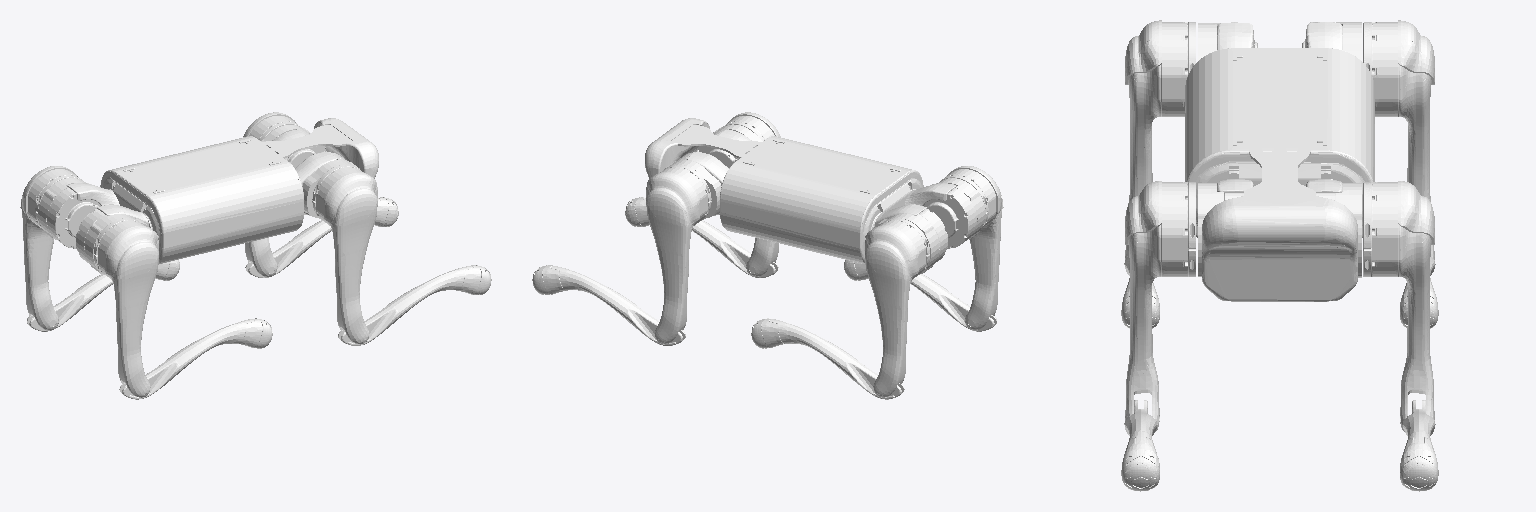
--- Facts derived from the render (not from the file) ---
Views: 3 orthographic renders of the robot side by side, from view 1: azimuth 30°, elevation 25°; view 2: azimuth 150°, elevation 25°; view 3: azimuth 270°, elevation 25°.
Model go2_description with 42 links and 41 joints (12 revolute, 29 fixed), rooted at base, posed all joints at 0 but 4 set to mid-range because 0 is outside their limits (FL_calf_joint = -1.78, FR_calf_joint = -1.78, RL_calf_joint = -1.78, RR_calf_joint = -1.78).
Visible links, largest first — view 1: base, FR_thigh, RR_thigh, RL_thigh, RL_hip, RR_calf, FR_calf, FL_calf, RR_hip, FL_thigh, RL_calf, FR_hip (+1 smaller); view 2: base, FL_thigh, RL_thigh, RR_thigh, RR_hip, RL_calf, FL_calf, FR_calf, RL_hip, FR_thigh, RR_calf, FL_hip (+1 smaller); view 3: base, FL_thigh, FR_thigh, RL_thigh, RR_thigh, RL_hip, RR_hip, FL_calf, FR_calf, FL_hip, FR_hip, FR_foot (+1 smaller).
Boxes of the visible links, x1=… form: base: x1=100, y1=118, x2=378, y2=263; FR_thigh: x1=312, y1=165, x2=377, y2=344; RR_thigh: x1=94, y1=218, x2=158, y2=397; RL_thigh: x1=20, y1=166, x2=82, y2=330; RL_hip: x1=38, y1=178, x2=119, y2=248; RR_calf: x1=119, y1=319, x2=272, y2=399; FR_calf: x1=338, y1=265, x2=489, y2=345; FL_calf: x1=245, y1=197, x2=398, y2=277; RR_hip: x1=76, y1=204, x2=151, y2=274; FL_thigh: x1=243, y1=112, x2=300, y2=277; RL_calf: x1=27, y1=260, x2=179, y2=331; FR_hip: x1=295, y1=151, x2=359, y2=218; base: x1=645, y1=118, x2=923, y2=263; FL_thigh: x1=646, y1=165, x2=711, y2=344; RL_thigh: x1=865, y1=218, x2=929, y2=397; RR_thigh: x1=940, y1=166, x2=1003, y2=330; RR_hip: x1=905, y1=178, x2=985, y2=248; RL_calf: x1=757, y1=319, x2=904, y2=399; FL_calf: x1=539, y1=265, x2=685, y2=345; FR_calf: x1=625, y1=197, x2=778, y2=277; RL_hip: x1=872, y1=204, x2=947, y2=274; FR_thigh: x1=723, y1=112, x2=780, y2=277; RR_calf: x1=844, y1=260, x2=996, y2=331; FL_hip: x1=665, y1=151, x2=728, y2=220; base: x1=1185, y1=48, x2=1374, y2=301; FL_thigh: x1=1363, y1=181, x2=1434, y2=431; FR_thigh: x1=1125, y1=181, x2=1195, y2=431; RL_thigh: x1=1363, y1=20, x2=1434, y2=259; RR_thigh: x1=1125, y1=20, x2=1195, y2=259; RL_hip: x1=1302, y1=22, x2=1361, y2=60; RR_hip: x1=1198, y1=22, x2=1257, y2=60; FL_calf: x1=1400, y1=400, x2=1435, y2=488; FR_calf: x1=1124, y1=400, x2=1159, y2=488; FL_hip: x1=1306, y1=179, x2=1361, y2=277; FR_hip: x1=1198, y1=179, x2=1253, y2=276; FR_foot: x1=1121, y1=450, x2=1159, y2=491.
Size in the robot's own frame: 0.6662 by 0.3236 by 0.2904 metres.
Meshes: 7 distinct files referenced, 17 mesh visuals loaded (7 OBJ).

robot.urdf — go2_description:
<?xml version="1.0" encoding="utf-8"?>
<!-- This URDF was automatically created by SolidWorks to URDF Exporter! Originally created by
Stephen Brawner ([email redacted]) 
     Commit Version: 1.6.0-4-g7f85cfe  Build Version: 1.6.7995.38578
     For more information, please see http://wiki.ros.org/sw_urdf_exporter -->
<robot
  name="go2_description">
  <link
    name="base">
    <inertial>
      <origin
        xyz="0.021112 0 -0.005366"
        rpy="0 0 0" />
      <mass
        value="6.921" />
      <inertia
        ixx="0.02448"
        ixy="0.00012166"
        ixz="0.0014849"
        iyy="0.098077"
        iyz="-3.12E-05"
        izz="0.107" />
    </inertial>
    <visual>
      <origin
        xyz="0 0 0"
        rpy="0 0 0" />
      <geometry>
        <mesh
          filename="../meshes/trunk.obj" />
      </geometry>
      <material
        name="">
        <color
          rgba="1 1 1 1" />
      </material>
    </visual>
    <collision>
      <origin rpy="0 0 0" xyz="0 0 0" />
      <geometry>
        <box size="0.3762 0.0935 0.114" />
      </geometry>
    </collision>
  </link>
  <link
    name="Head_upper">
    <inertial>
      <origin
        xyz="0 0 0"
        rpy="0 0 0" />
      <mass
        value="0.001" />
      <inertia
        ixx="9.6e-06"
        ixy="0"
        ixz="0"
        iyy="9.6e-06"
        iyz="0"
        izz="9.6e-06" />
    </inertial>
    <collision>
      <origin
        xyz="0 0 0"
        rpy="0 0 0" />
      <geometry>
        <cylinder radius="0.05" length="0.09" />
      </geometry>
    </collision>
  </link>
  <joint
    name="Head_upper_joint"
    type="fixed" dont_collapse="true">
    <origin
      xyz="0.285 0 0.01"
      rpy="0 0 0" />
    <parent
      link="base" />
    <child
      link="Head_upper" />
    <axis
      xyz="0 0 0" />
  </joint>
  <link
    name="Head_lower">
    <inertial>
      <origin
        xyz="0 0 0"
        rpy="0 0 0" />
      <mass
        value="0.001" />
      <inertia
        ixx="9.6e-06"
        ixy="0"
        ixz="0"
        iyy="9.6e-06"
        iyz="0"
        izz="9.6e-06" />
    </inertial>
    <collision>
      <origin
        xyz="0 0 0"
        rpy="0 0 0" />
      <geometry>
        <sphere radius="0.047" />
      </geometry>
    </collision>
  </link>
  <joint
    name="Head_lower_joint"
    type="fixed" dont_collapse="true">
    <origin
      xyz="0.008 0 -0.07"
      rpy="0 0 0" />
    <parent
      link="Head_upper" />
    <child
      link="Head_lower" />
    <axis
      xyz="0 0 0" />
  </joint>
  <link
    name="FL_hip">
    <inertial>
      <origin
        xyz="-0.0054 0.00194 -0.000105"
        rpy="0 0 0" />
      <mass
        value="0.678" />
      <inertia
        ixx="0.00048"
        ixy="-3.01E-06"
        ixz="1.11E-06"
        iyy="0.000884"
        iyz="-1.42E-06"
        izz="0.000596" />
    </inertial>
    <visual>
      <origin
        xyz="0 0 0"
        rpy="0 0 0" />
      <geometry>
        <mesh
          filename="../meshes/hip.obj" />
      </geometry>
      <material
        name="">
        <color
          rgba="1 1 1 1" />
      </material>
    </visual>
    <collision>
      <origin rpy="1.5707963267948966 0 0" xyz="0 0.08 0" />
      <geometry>
        <cylinder length="0.04" radius="0.046" />
      </geometry>
    </collision>
  </link>
  <joint
    name="FL_hip_joint"
    type="revolute">
    <origin
      xyz="0.1934 0.0465 0"
      rpy="0 0 0" />
    <parent
      link="base" />
    <child
      link="FL_hip" />
    <axis
      xyz="1 0 0" />
    <limit
      lower="-1.0472"
      upper="1.0472"
      effort="23.7"
      velocity="30.1" />
  </joint>
  <link name="FL_hip_rotor">
    <inertial>
      <origin rpy="0 0 0" xyz="0.0 0.0 0.0"/>
      <mass value="0.089"/>
      <inertia ixx="0.000111842" ixy="0.0" ixz="0.0" iyy="0.000059647" iyz="0.0" izz="0.000059647"/>
    </inertial>
  </link>
  <joint name="FL_hip_rotor_joint" type="fixed">
    <origin rpy="0 0 0" xyz="0.11215 0.04675 0"/>
    <parent link="base"/>
    <child link="FL_hip_rotor"/>
  </joint>
  <link
    name="FL_thigh">
    <inertial>
      <origin
        xyz="-0.00374 -0.0223 -0.0327"
        rpy="0 0 0" />
      <mass
        value="1.152" />
      <inertia
        ixx="0.00584"
        ixy="8.72E-05"
        ixz="-0.000289"
        iyy="0.0058"
        iyz="0.000808"
        izz="0.00103" />
    </inertial>
    <visual>
      <origin
        xyz="0 0 0"
        rpy="0 0 0" />
      <geometry>
        <mesh
          filename="../meshes/thigh.obj" />
      </geometry>
      <material
        name="">
        <color
          rgba="1 1 1 1" />
      </material>
    </visual>
    <collision>
      <origin rpy="0 1.5707963267948966 0" xyz="0 0 -0.1065" />
      <geometry>
        <box size="0.213 0.0245 0.034" />
      </geometry>
    </collision>
  </link>
  <joint
    name="FL_thigh_joint"
    type="revolute">
    <origin
      xyz="0 0.0955 0"
      rpy="0 0 0" />
    <parent
      link="FL_hip" />
    <child
      link="FL_thigh" />
    <axis
      xyz="0 1 0" />
    <limit
      lower="-1.5708"
      upper="3.4907"
      effort="23.7"
      velocity="30.1" />
  </joint>
  <link name="FL_thigh_rotor">
    <inertial>
      <origin rpy="0 0 0" xyz="0.0 0.0 0.0"/>
      <mass value="0.089"/>
      <inertia ixx="0.000059647" ixy="0.0" ixz="0.0" iyy="0.000111842" iyz="0.0" izz="0.000059647"/>
    </inertial>
  </link>
  <joint name="FL_thigh_rotor_joint" type="fixed">
    <origin rpy="0 0 0" xyz="0 -0.00015 0"/>
    <parent link="FL_hip"/>
    <child link="FL_thigh_rotor"/>
  </joint>
  <link
    name="FL_calf">
    <inertial>
      <origin
        xyz="0.00548 -0.000975 -0.115"
        rpy="0 0 0" />
      <mass
        value="0.154" />
      <inertia
        ixx="0.00108"
        ixy="3.4E-07"
        ixz="1.72E-05"
        iyy="0.0011"
        iyz="8.28E-06"
        izz="3.29E-05" />
    </inertial>
    <visual>
      <origin
        xyz="0 0 0"
        rpy="0 0 0" />
      <geometry>
        <mesh
          filename="../meshes/calf.obj" />
      </geometry>
      <material
        name="">
        <color
          rgba="1 1 1 1" />
      </material>
    </visual>
    <collision>
      <origin rpy="0 -0.21 0" xyz="0.008 0 -0.06" />
      <geometry>
        <cylinder length="0.12" radius="0.012" />
      </geometry>
    </collision>
  </link>
  <joint
    name="FL_calf_joint"
    type="revolute">
    <origin
      xyz="0 0 -0.213"
      rpy="0 0 0" />
    <parent
      link="FL_thigh" />
    <child
      link="FL_calf" />
    <axis
      xyz="0 1 0" />
    <limit
      lower="-2.7227"
      upper="-0.83776"
      effort="45.43"
      velocity="15.70" />
  </joint>
  <link
    name="FL_calflower">
    <inertial>
      <origin rpy="0 0 0" xyz="0 0 0" />
      <mass value="0.001" />
      <inertia ixx="1e-6" ixy="0" ixz="0" iyy="1e-6" iyz="0" izz="1e-6" />
    </inertial>
    <collision>
      <origin rpy="0 0 0" xyz="0 0 0" />
      <geometry>
        <cylinder length="0.065" radius="0.011" />
      </geometry>
    </collision>
  </link>
  <joint
    name="FL_calflower_joint"
    type="fixed">
    <origin
      xyz="0.020 0 -0.148"
      rpy="0 0.05 0" />
    <parent
      link="FL_calf" />
    <child
      link="FL_calflower" />
    <axis
      xyz="0 0 0" />
  </joint>
  <link
    name="FL_calflower1">
    <inertial>
      <origin rpy="0 0 0" xyz="0 0 0" />
      <mass value="0.001" />
      <inertia ixx="1e-6" ixy="0" ixz="0" iyy="1e-6" iyz="0" izz="1e-6" />
    </inertial>
    <collision>
      <origin rpy="0 0 0" xyz="0 0 0" />
      <geometry>
        <cylinder length="0.03" radius="0.0155" />
      </geometry>
    </collision>
  </link>
  <joint
    name="FL_calflower1_joint"
    type="fixed">
    <origin
      xyz="-0.01 0 -0.04"
      rpy="0 0.48 0" />
    <parent
      link="FL_calflower" />
    <child
      link="FL_calflower1" />
    <axis
      xyz="0 0 0" />
  </joint>
  <link name="FL_calf_rotor">
    <inertial>
      <origin rpy="0 0 0" xyz="0.0 0.0 0.0"/>
      <mass value="0.089"/>
      <inertia ixx="0.000059647" ixy="0.0" ixz="0.0" iyy="0.000111842" iyz="0.0" izz="0.000059647"/>
    </inertial>
  </link>
  <joint name="FL_calf_rotor_joint" type="fixed">
    <origin rpy="0 0 0" xyz="0 -0.03235 0"/>
    <parent link="FL_thigh"/>
    <child link="FL_calf_rotor"/>
  </joint>
  <link
    name="FL_foot">
    <inertial>
      <origin
        xyz="0 0 0"
        rpy="0 0 0" />
      <mass
        value="0.04" />
      <inertia
        ixx="9.6e-06"
        ixy="0"
        ixz="0"
        iyy="9.6e-06"
        iyz="0"
        izz="9.6e-06" />
    </inertial>
    <visual>
      <origin
        xyz="0 0 0"
        rpy="0 0 0" />
      <geometry>
        <mesh
          filename="../meshes/foot.obj" />
      </geometry>
      <material
        name="">
        <color
          rgba="1 1 1 1" />
      </material>
    </visual>
    <collision>
      <origin rpy="0 0 0" xyz="-0.002 0 0" />
      <geometry>
        <sphere radius="0.022" />
      </geometry>
    </collision>
  </link>
  <joint
    name="FL_foot_joint"
    type="fixed" dont_collapse="true">
    <origin
      xyz="0 0 -0.213"
      rpy="0 0 0" />
    <parent
      link="FL_calf" />
    <child
      link="FL_foot" />
    <axis
      xyz="0 0 0" />
  </joint>
  <link
    name="FR_hip">
    <inertial>
      <origin
        xyz="-0.0054 -0.00194 -0.000105"
        rpy="0 0 0" />
      <mass
        value="0.678" />
      <inertia
        ixx="0.00048"
        ixy="3.01E-06"
        ixz="1.11E-06"
        iyy="0.000884"
        iyz="1.42E-06"
        izz="0.000596" />
    </inertial>
    <visual>
      <origin
        xyz="0 0 0"
        rpy="3.1415 0 0" />
      <geometry>
        <mesh
          filename="../meshes/hip.obj" />
      </geometry>
      <material
        name="">
        <color
          rgba="1 1 1 1" />
      </material>
    </visual>
    <collision>
      <origin rpy="1.5707963267948966 0 0" xyz="0 -0.08 0" />
      <geometry>
        <cylinder length="0.04" radius="0.046" />
      </geometry>
    </collision>
  </link>
  <joint
    name="FR_hip_joint"
    type="revolute">
    <origin
      xyz="0.1934 -0.0465 0"
      rpy="0 0 0" />
    <parent
      link="base" />
    <child
      link="FR_hip" />
    <axis
      xyz="1 0 0" />
    <limit
      lower="-1.0472"
      upper="1.0472"
      effort="23.7"
      velocity="30.1" />
  </joint>
  <link name="FR_hip_rotor">
    <inertial>
      <origin rpy="0 0 0" xyz="0.0 0.0 0.0"/>
      <mass value="0.089"/>
      <inertia ixx="0.000111842" ixy="0.0" ixz="0.0" iyy="0.000059647" iyz="0.0" izz="0.000059647"/>
    </inertial>
  </link>
  <joint name="FR_hip_rotor_joint" type="fixed">
    <origin rpy="0 0 0" xyz="0.11215 -0.04675 0"/>
    <parent link="base"/>
    <child link="FR_hip_rotor"/>
  </joint>
  <link
    name="FR_thigh">
    <inertial>
      <origin
        xyz="-0.00374 0.0223 -0.0327"
        rpy="0 0 0" />
      <mass
        value="1.152" />
      <inertia
        ixx="0.00584"
        ixy="-8.72E-05"
        ixz="-0.000289"
        iyy="0.0058"
        iyz="-0.000808"
        izz="0.00103" />
    </inertial>
    <visual>
      <origin
        xyz="0 0 0"
        rpy="0 0 0" />
      <geometry>
        <mesh
          filename="../meshes/thigh_mirror.obj" />
      </geometry>
      <material
        name="">
        <color
          rgba="1 1 1 1" />
      </material>
    </visual>
    <collision>
      <origin rpy="0 1.5707963267948966 0" xyz="0 0 -0.1065" />
      <geometry>
        <box size="0.213 0.0245 0.034" />
      </geometry>
    </collision>
  </link>
  <joint
    name="FR_thigh_joint"
    type="revolute">
    <origin
      xyz="0 -0.0955 0"
      rpy="0 0 0" />
    <parent
      link="FR_hip" />
    <child
      link="FR_thigh" />
    <axis
      xyz="0 1 0" />
    <limit
      lower="-1.5708"
      upper="3.4907"
      effort="23.7"
      velocity="30.1" />
  </joint>
  <link name="FR_thigh_rotor">
    <inertial>
      <origin rpy="0 0 0" xyz="0.0 0.0 0.0"/>
      <mass value="0.089"/>
      <inertia ixx="0.000059647" ixy="0.0" ixz="0.0" iyy="0.000111842" iyz="0.0" izz="0.000059647"/>
    </inertial>
  </link>
  <joint name="FR_thigh_rotor_joint" type="fixed">
    <origin rpy="0 0 0" xyz="0 0.00015 0"/>
    <parent link="FR_hip"/>
    <child link="FR_thigh_rotor"/>
  </joint>
  <link
    name="FR_calf">
    <inertial>
      <origin
        xyz="0.00548 0.000975 -0.115"
        rpy="0 0 0" />
      <mass
        value="0.154" />
      <inertia
        ixx="0.00108"
        ixy="-3.4E-07"
        ixz="1.72E-05"
        iyy="0.0011"
        iyz="-8.28E-06"
        izz="3.29E-05" />
    </inertial>
    <visual>
      <origin
        xyz="0 0 0"
        rpy="0 0 0" />
      <geometry>
        <mesh
          filename="../meshes/calf_mirror.obj" />
      </geometry>
      <material
        name="">
        <color
          rgba="1 1 1 1" />
      </material>
    </visual>
    <collision>
      <origin rpy="0 -0.2 0" xyz="0.01 0 -0.06" />
      <geometry>
        <cylinder length="0.12" radius="0.013" />
      </geometry>
    </collision>
  </link>
  <joint
    name="FR_calf_joint"
    type="revolute">
    <origin
      xyz="0 0 -0.213"
      rpy="0 0 0" />
    <parent
      link="FR_thigh" />
    <child
      link="FR_calf" />
    <axis
      xyz="0 1 0" />
    <limit
      lower="-2.7227"
      upper="-0.83776"
      effort="45.43"
      velocity="15.70" />
  </joint>
  <link
    name="FR_calflower">
    <inertial>
      <origin rpy="0 0 0" xyz="0 0 0" />
      <mass value="0.001" />
      <inertia ixx="1e-6" ixy="0" ixz="0" iyy="1e-6" iyz="0" izz="1e-6" />
    </inertial>
    <collision>
      <origin rpy="0 0 0" xyz="0 0 0" />
      <geometry>
        <cylinder length="0.065" radius="0.011" />
      </geometry>
    </collision>
  </link>
  <joint
    name="FR_calflower_joint"
    type="fixed">
    <origin
      xyz="0.020 0 -0.148"
      rpy="0 0.05 0" />
    <parent
      link="FR_calf" />
    <child
      link="FR_calflower" />
    <axis
      xyz="0 0 0" />
  </joint>
  <link
    name="FR_calflower1">
    <inertial>
      <origin rpy="0 0 0" xyz="0 0 0" />
      <mass value="0.001" />
      <inertia ixx="1e-6" ixy="0" ixz="0" iyy="1e-6" iyz="0" izz="1e-6" />
    </inertial>
    <collision>
      <origin rpy="0 0 0" xyz="0 0 0" />
      <geometry>
        <cylinder length="0.03" radius="0.0155" />
      </geometry>
    </collision>
  </link>
  <joint
    name="FR_calflower1_joint"
    type="fixed">
    <origin
      xyz="-0.01 0 -0.04"
      rpy="0 0.48 0" />
    <parent
      link="FR_calflower" />
    <child
      link="FR_calflower1" />
    <axis
      xyz="0 0 0" />
  </joint>
  <link name="FR_calf_rotor">
    <inertial>
      <origin rpy="0 0 0" xyz="0.0 0.0 0.0"/>
      <mass value="0.089"/>
      <inertia ixx="0.000059647" ixy="0.0" ixz="0.0" iyy="0.000111842" iyz="0.0" izz="0.000059647"/>
    </inertial>
  </link>
  <joint name="FR_calf_rotor_joint" type="fixed">
    <origin rpy="0 0 0" xyz="0 0.03235 0"/>
    <parent link="FR_thigh"/>
    <child link="FR_calf_rotor"/>
  </joint>
  <link
    name="FR_foot">
    <inertial>
      <origin
        xyz="0 0 0"
        rpy="0 0 0" />
      <mass
        value="0.04" />
      <inertia
        ixx="9.6e-06"
        ixy="0"
        ixz="0"
        iyy="9.6e-06"
        iyz="0"
        izz="9.6e-06" />
    </inertial>
    <visual>
      <origin
        xyz="0 0 0"
        rpy="0 0 0" />
      <geometry>
        <mesh
          filename="../meshes/foot.obj" />
      </geometry>
      <material
        name="">
        <color
          rgba="1 1 1 1" />
      </material>
    </visual>
    <collision>
      <origin rpy="0 0 0" xyz="-0.002 0 0" />
      <geometry>
        <sphere radius="0.022" />
      </geometry>
    </collision>
  </link>
  <joint
    name="FR_foot_joint"
    type="fixed" dont_collapse="true">
    <origin
      xyz="0 0 -0.213"
      rpy="0 0 0" />
    <parent
      link="FR_calf" />
    <child
      link="FR_foot" />
    <axis
      xyz="0 0 0" />
  </joint>
  <link
    name="RL_hip">
    <inertial>
      <origin
        xyz="0.0054 0.00194 -0.000105"
        rpy="0 0 0" />
      <mass
        value="0.678" />
      <inertia
        ixx="0.00048"
        ixy="3.01E-06"
        ixz="-1.11E-06"
        iyy="0.000884"
        iyz="-1.42E-06"
        izz="0.000596" />
    </inertial>
    <visual>
      <origin
        xyz="0 0 0"
        rpy="0 3.1415 0" />
      <geometry>
        <mesh
          filename="../meshes/hip.obj" />
      </geometry>
      <material
        name="">
        <color
          rgba="1 1 1 1" />
      </material>
    </visual>
    <collision>
      <origin rpy="1.5707963267948966 0 0" xyz="0 0.08 0" />
      <geometry>
        <cylinder length="0.04" radius="0.046" />
      </geometry>
    </collision>
  </link>
  <joint
    name="RL_hip_joint"
    type="revolute">
    <origin
      xyz="-0.1934 0.0465 0"
      rpy="0 0 0" />
    <parent
      link="base" />
    <child
      link="RL_hip" />
    <axis
      xyz="1 0 0" />
    <limit
      lower="-1.0472"
      upper="1.0472"
      effort="23.7"
      velocity="30.1" />
  </joint>
  <link name="RL_hip_rotor">
    <inertial>
      <origin rpy="0 0 0" xyz="0.0 0.0 0.0"/>
      <mass value="0.089"/>
      <inertia ixx="0.000111842" ixy="0.0" ixz="0.0" iyy="0.000059647" iyz="0.0" izz="0.000059647"/>
    </inertial>
  </link>
  <joint name="RL_hip_rotor_joint" type="fixed">
    <origin rpy="0 0 0" xyz="-0.11215 0.04675 0"/>
    <parent link="base"/>
    <child link="RL_hip_rotor"/>
  </joint>
  <link
    name="RL_thigh">
    <inertial>
      <origin
        xyz="-0.00374 -0.0223 -0.0327"
        rpy="0 0 0" />
      <mass
        value="1.152" />
      <inertia
        ixx="0.00584"
        ixy="8.72E-05"
        ixz="-0.000289"
        iyy="0.0058"
        iyz="0.000808"
        izz="0.00103" />
    </inertial>
    <visual>
      <origin
        xyz="0 0 0"
        rpy="0 0 0" />
      <geometry>
        <mesh
          filename="../meshes/thigh.obj" />
      </geometry>
      <material
        name="">
        <color
          rgba="1 1 1 1" />
      </material>
    </visual>
    <collision>
      <origin rpy="0 1.5707963267948966 0" xyz="0 0 -0.1065" />
      <geometry>
        <box size="0.213 0.0245 0.034" />
      </geometry>
    </collision>
  </link>
  <joint
    name="RL_thigh_joint"
    type="revolute">
    <origin
      xyz="0 0.0955 0"
      rpy="0 0 0" />
    <parent
      link="RL_hip" />
    <child
      link="RL_thigh" />
    <axis
      xyz="0 1 0" />
    <limit
      lower="-0.5236"
      upper="4.5379"
      effort="23.7"
      velocity="30.1" />
  </joint>
  <link name="RL_thigh_rotor">
    <inertial>
      <origin rpy="0 0 0" xyz="0.0 0.0 0.0"/>
      <mass value="0.089"/>
      <inertia ixx="0.000059647" ixy="0.0" ixz="0.0" iyy="0.000111842" iyz="0.0" izz="0.000059647"/>
    </inertial>
  </link>
  <joint name="RL_thigh_rotor_joint" type="fixed">
    <origin rpy="0 0 0" xyz="0 -0.00015 0"/>
    <parent link="RL_hip"/>
    <child link="RL_thigh_rotor"/>
  </joint>
  <link
    name="RL_calf">
    <inertial>
      <origin
        xyz="0.00548 -0.000975 -0.115"
        rpy="0 0 0" />
      <mass
        value="0.154" />
      <inertia
        ixx="0.00108"
        ixy="3.4E-07"
        ixz="1.72E-05"
        iyy="0.0011"
        iyz="8.28E-06"
        izz="3.29E-05" />
    </inertial>
    <visual>
      <origin
        xyz="0 0 0"
        rpy="0 0 0" />
      <geometry>
        <mesh
          filename="../meshes/calf.obj" />
      </geometry>
      <material
        name="">
        <color
          rgba="1 1 1 1" />
      </material>
    </visual>
    <collision>
      <origin rpy="0 -0.2 0" xyz="0.01 0 -0.06" />
      <geometry>
        <cylinder length="0.12" radius="0.013" />
      </geometry>
    </collision>
  </link>
  <joint
    name="RL_calf_joint"
    type="revolute">
    <origin
      xyz="0 0 -0.213"
      rpy="0 0 0" />
    <parent
      link="RL_thigh" />
    <child
      link="RL_calf" />
    <axis
      xyz="0 1 0" />
    <limit
      lower="-2.7227"
      upper="-0.83776"
      effort="45.43"
      velocity="15.70" />
  </joint>
  <link
    name="RL_calflower">
    <inertial>
      <origin rpy="0 0 0" xyz="0 0 0" />
      <mass value="0.001" />
      <inertia ixx="1e-6" ixy="0" ixz="0" iyy="1e-6" iyz="0" izz="1e-6" />
    </inertial>
    <collision>
      <origin rpy="0 0 0" xyz="0 0 0" />
      <geometry>
        <cylinder length="0.065" radius="0.011" />
      </geometry>
    </collision>
  </link>
  <joint
    name="RL_calflower_joint"
    type="fixed">
    <origin
      xyz="0.020 0 -0.148"
      rpy="0 0.05 0" />
    <parent
      link="RL_calf" />
    <child
      link="RL_calflower" />
    <axis
      xyz="0 0 0" />
  </joint>
  <link
    name="RL_calflower1">
    <inertial>
      <origin rpy="0 0 0" xyz="0 0 0" />
      <mass value="0.001" />
      <inertia ixx="1e-6" ixy="0" ixz="0" iyy="1e-6" iyz="0" izz="1e-6" />
    </inertial>
    <collision>
      <origin rpy="0 0 0" xyz="0 0 0" />
      <geometry>
        <cylinder length="0.03" radius="0.0155" />
      </geometry>
    </collision>
  </link>
  <joint
    name="RL_calflower1_joint"
    type="fixed">
    <origin
      xyz="-0.01 0 -0.04"
      rpy="0 0.48 0" />
    <parent
      link="RL_calflower" />
    <child
      link="RL_calflower1" />
    <axis
      xyz="0 0 0" />
  </joint>
  <link name="RL_calf_rotor">
    <inertial>
      <origin rpy="0 0 0" xyz="0.0 0.0 0.0"/>
      <mass value="0.089"/>
      <inertia ixx="0.000059647" ixy="0.0" ixz="0.0" iyy="0.000111842" iyz="0.0" izz="0.000059647"/>
    </inertial>
  </link>
  <joint name="RL_calf_rotor_joint" type="fixed">
    <origin rpy="0 0 0" xyz="0 -0.03235 0"/>
    <parent link="RL_thigh"/>
    <child link="RL_calf_rotor"/>
  </joint>
  <link
    name="RL_foot">
    <inertial>
      <origin
        xyz="0 0 0"
        rpy="0 0 0" />
      <mass
        value="0.04" />
      <inertia
        ixx="9.6e-06"
        ixy="0"
        ixz="0"
        iyy="9.6e-06"
        iyz="0"
        izz="9.6e-06" />
    </inertial>
    <visual>
      <origin
        xyz="0 0 0"
        rpy="0 0 0" />
      <geometry>
        <mesh
          filename="../meshes/foot.obj" />
      </geometry>
      <material
        name="">
        <color
          rgba="1 1 1 1" />
      </material>
    </visual>
    <collision>
      <origin rpy="0 0 0" xyz="-0.002 0 0" />
      <geometry>
        <sphere radius="0.022" />
      </geometry>
    </collision>
  </link>
  <joint
    name="RL_foot_joint"
    type="fixed" dont_collapse="true">
    <origin
      xyz="0 0 -0.213"
      rpy="0 0 0" />
    <parent
      link="RL_calf" />
    <child
      link="RL_foot" />
    <axis
      xyz="0 0 0" />
  </joint>
  <link
    name="RR_hip">
    <inertial>
      <origin
        xyz="0.0054 -0.00194 -0.000105"
        rpy="0 0 0" />
      <mass
        value="0.678" />
      <inertia
        ixx="0.00048"
        ixy="-3.01E-06"
        ixz="-1.11E-06"
        iyy="0.000884"
        iyz="1.42E-06"
        izz="0.000596" />
    </inertial>
    <visual>
      <origin
        xyz="0 0 0"
        rpy="3.1415 3.1415 0" />
      <geometry>
        <mesh
          filename="../meshes/hip.obj" />
      </geometry>
      <material
        name="">
        <color
          rgba="1 1 1 1" />
      </material>
    </visual>
    <collision>
      <origin rpy="1.5707963267948966 0 0" xyz="0 -0.08 0" />
      <geometry>
        <cylinder length="0.04" radius="0.046" />
      </geometry>
    </collision>
  </link>
  <joint
    name="RR_hip_joint"
    type="revolute">
    <origin
      xyz="-0.1934 -0.0465 0"
      rpy="0 0 0" />
    <parent
      link="base" />
    <child
      link="RR_hip" />
    <axis
      xyz="1 0 0" />
    <limit
      lower="-1.0472"
      upper="1.0472"
      effort="23.7"
      velocity="30.1" />
  </joint>
  <link name="RR_hip_rotor">
    <inertial>
      <origin rpy="0 0 0" xyz="0.0 0.0 0.0"/>
      <mass value="0.089"/>
      <inertia ixx="0.000111842" ixy="0.0" ixz="0.0" iyy="0.000059647" iyz="0.0" izz="0.000059647"/>
    </inertial>
  </link>
  <joint name="RR_hip_rotor_joint" type="fixed">
    <origin rpy="0 0 0" xyz="-0.11215 -0.04675 0"/>
    <parent link="base"/>
    <child link="RR_hip_rotor"/>
  </joint>
  <link
    name="RR_thigh">
    <inertial>
      <origin
        xyz="-0.00374 0.0223 -0.0327"
        rpy="0 0 0" />
      <mass
        value="1.152" />
      <inertia
        ixx="0.00584"
        ixy="-8.72E-05"
        ixz="-0.000289"
        iyy="0.0058"
        iyz="-0.000808"
        izz="0.00103" />
    </inertial>
    <visual>
      <origin
        xyz="0 0 0"
        rpy="0 0 0" />
      <geometry>
        <mesh
          filename="../meshes/thigh_mirror.obj" />
      </geometry>
      <material
        name="">
        <color
          rgba="1 1 1 1" />
      </material>
    </visual>
    <collision>
      <origin rpy="0 1.5707963267948966 0" xyz="0 0 -0.1065" />
      <geometry>
        <box size="0.213 0.0245 0.034" />
      </geometry>
    </collision>
  </link>
  <joint
    name="RR_thigh_joint"
    type="revolute">
    <origin
      xyz="0 -0.0955 0"
      rpy="0 0 0" />
    <parent
      link="RR_hip" />
    <child
      link="RR_thigh" />
    <axis
      xyz="0 1 0" />
    <limit
      lower="-0.5236"
      upper="4.5379"
      effort="23.7"
      velocity="30.1" />
  </joint>
  <link name="RR_thigh_rotor">
    <inertial>
      <origin rpy="0 0 0" xyz="0.0 0.0 0.0"/>
      <mass value="0.089"/>
      <inertia ixx="0.000059647" ixy="0.0" ixz="0.0" iyy="0.000111842" iyz="0.0" izz="0.000059647"/>
    </inertial>
  </link>
  <joint name="RR_thigh_rotor_joint" type="fixed">
    <origin rpy="0 0 0" xyz="0 0.00015 0"/>
    <parent link="RR_hip"/>
    <child link="RR_thigh_rotor"/>
  </joint>
  <link
    name="RR_calf">
    <inertial>
      <origin
        xyz="0.00548 0.000975 -0.115"
        rpy="0 0 0" />
      <mass
        value="0.154" />
      <inertia
        ixx="0.00108"
        ixy="-3.4E-07"
        ixz="1.72E-05"
        iyy="0.0011"
        iyz="-8.28E-06"
        izz="3.29E-05" />
    </inertial>
    <visual>
      <origin
        xyz="0 0 0"
        rpy="0 0 0" />
      <geometry>
        <mesh
          filename="../meshes/calf_mirror.obj" />
      </geometry>
      <material
        name="">
        <color
          rgba="1 1 1 1" />
      </material>
    </visual>
    <collision>
      <origin rpy="0 -0.2 0" xyz="0.01 0 -0.06" />
      <geometry>
        <cylinder length="0.12" radius="0.013" />
      </geometry>
    </collision>
  </link>
  <joint
    name="RR_calf_joint"
    type="revolute">
    <origin
      xyz="0 0 -0.213"
      rpy="0 0 0" />
    <parent
      link="RR_thigh" />
    <child
      link="RR_calf" />
    <axis
      xyz="0 1 0" />
    <limit
      lower="-2.7227"
      upper="-0.83776"
      effort="45.43"
      velocity="15.70" />
  </joint>
  <link
    name="RR_calflower">
    <inertial>
      <origin rpy="0 0 0" xyz="0 0 0" />
      <mass value="0.001" />
      <inertia ixx="1e-6" ixy="0" ixz="0" iyy="1e-6" iyz="0" izz="1e-6" />
    </inertial>
    <collision>
      <origin rpy="0 0 0" xyz="0 0 0" />
      <geometry>
        <cylinder length="0.065" radius="0.011" />
      </geometry>
    </collision>
  </link>
  <joint
    name="RR_calflower_joint"
    type="fixed">
    <origin
      xyz="0.020 0 -0.148"
      rpy="0 0.05 0" />
    <parent
      link="RR_calf" />
    <child
      link="RR_calflower" />
    <axis
      xyz="0 0 0" />
  </joint>
  <link
    name="RR_calflower1">
    <inertial>
      <origin rpy="0 0 0" xyz="0 0 0" />
      <mass value="0.001" />
      <inertia ixx="1e-6" ixy="0" ixz="0" iyy="1e-6" iyz="0" izz="1e-6" />
    </inertial>
    <collision>
      <origin rpy="0 0 0" xyz="0 0 0" />
      <geometry>
        <cylinder length="0.03" radius="0.0155" />
      </geometry>
    </collision>
  </link>
  <joint
    name="RR_calflower1_joint"
    type="fixed">
    <origin
      xyz="-0.01 0 -0.04"
      rpy="0 0.48 0" />
    <parent
      link="RR_calflower" />
    <child
      link="RR_calflower1" />
    <axis
      xyz="0 0 0" />
  </joint>
  <link name="RR_calf_rotor">
    <inertial>
      <origin rpy="0 0 0" xyz="0.0 0.0 0.0"/>
      <mass value="0.089"/>
      <inertia ixx="0.000059647" ixy="0.0" ixz="0.0" iyy="0.000111842" iyz="0.0" izz="0.000059647"/>
    </inertial>
  </link>
  <joint name="RR_calf_rotor_joint" type="fixed">
    <origin rpy="0 0 0" xyz="0 0.03235 0"/>
    <parent link="RR_thigh"/>
    <child link="RR_calf_rotor"/>
  </joint>
  <link
    name="RR_foot">
    <inertial>
      <origin
        xyz="0 0 0"
        rpy="0 0 0" />
      <mass
        value="0.04" />
      <inertia
        ixx="9.6e-06"
        ixy="0"
        ixz="0"
        iyy="9.6e-06"
        iyz="0"
        izz="9.6e-06" />
    </inertial>
    <visual>
      <origin
        xyz="0 0 0"
        rpy="0 0 0" />
      <geometry>
        <mesh
          filename="../meshes/foot.obj" />
      </geometry>
      <material
        name="">
        <color
          rgba="1 1 1 1" />
      </material>
    </visual>
    <collision>
      <origin rpy="0 0 0" xyz="-0.002 0 0" />
      <geometry>
        <sphere radius="0.022" />
      </geometry>
    </collision>
  </link>
  <joint
    name="RR_foot_joint"
    type="fixed" dont_collapse="true">
    <origin
      xyz="0 0 -0.213"
      rpy="0 0 0" />
    <parent
      link="RR_calf" />
    <child
      link="RR_foot" />
    <axis
      xyz="0 0 0" />
  </joint>
  <link
    name="imu">
    <inertial>
      <origin
        xyz="0 0 0"
        rpy="0 0 0" />
      <mass
        value="0.001" />
      <inertia
        ixx="1e-6"
        ixy="0"
        ixz="0"
        iyy="1e-6"
        iyz="0"
        izz="1e-6" />
    </inertial>
  </link>
  <joint
    name="imu_joint"
    type="fixed">
    <origin
      xyz="-0.02557 0 0.04232"
      rpy="0 0 0" />
    <parent
      link="base" />
    <child
      link="imu" />
    <axis
      xyz="0 0 0" />
  </joint>
  <link
    name="radar">
    <inertial>
      <origin
        xyz="0 0 0"
        rpy="0 0 0" />
      <mass
        value="0.001" />
      <inertia
        ixx="1e-6"
        ixy="0"
        ixz="0"
        iyy="1e-6"
        iyz="0"
        izz="1e-6" />
    </inertial>
  </link>
  <joint
    name="radar_joint"
    type="fixed">
    <origin
      xyz="0.28945 0 -0.046825"
      rpy="0 2.8782 0" />
    <parent
      link="base" />
    <child
      link="radar" />
    <axis
      xyz="0 0 0" />
  </joint>
  <joint 
    name="front_camera_joint" 
    type="fixed">
    <origin 
      rpy="0 0 0" 
      xyz="0.32715 -0.00003 0.04297"/>
      <parent 
        link="base"/>
      <child 
      link="front_camera"/>
  </joint>
  <link 
    name="front_camera">
    <inertial>
      <origin rpy="0 0 0" xyz="0 0 0" />
      <mass value="0.001" />
      <inertia ixx="1e-6" ixy="0" ixz="0" iyy="1e-6" iyz="0" izz="1e-6" />
    </inertial>
  </link>
</robot>
